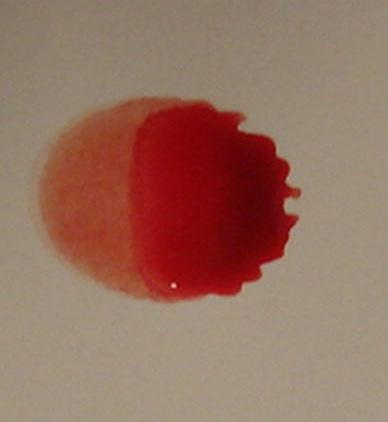Fire: (36, 96, 301, 301)
